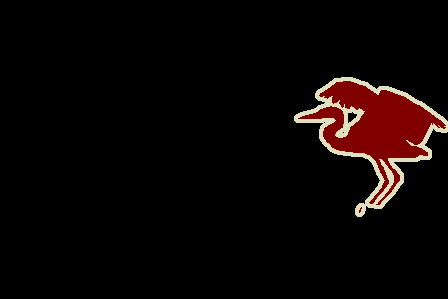bird: (297, 82, 448, 211)
